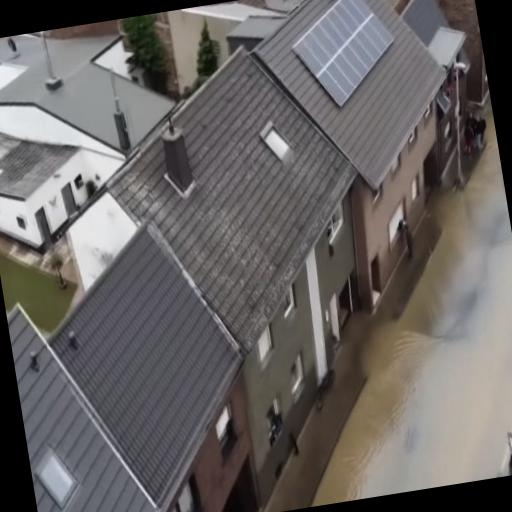flood: (312, 106, 512, 506)
house: (43, 34, 406, 512), (25, 203, 271, 512), (254, 0, 466, 310), (0, 9, 209, 264), (422, 0, 491, 115)
